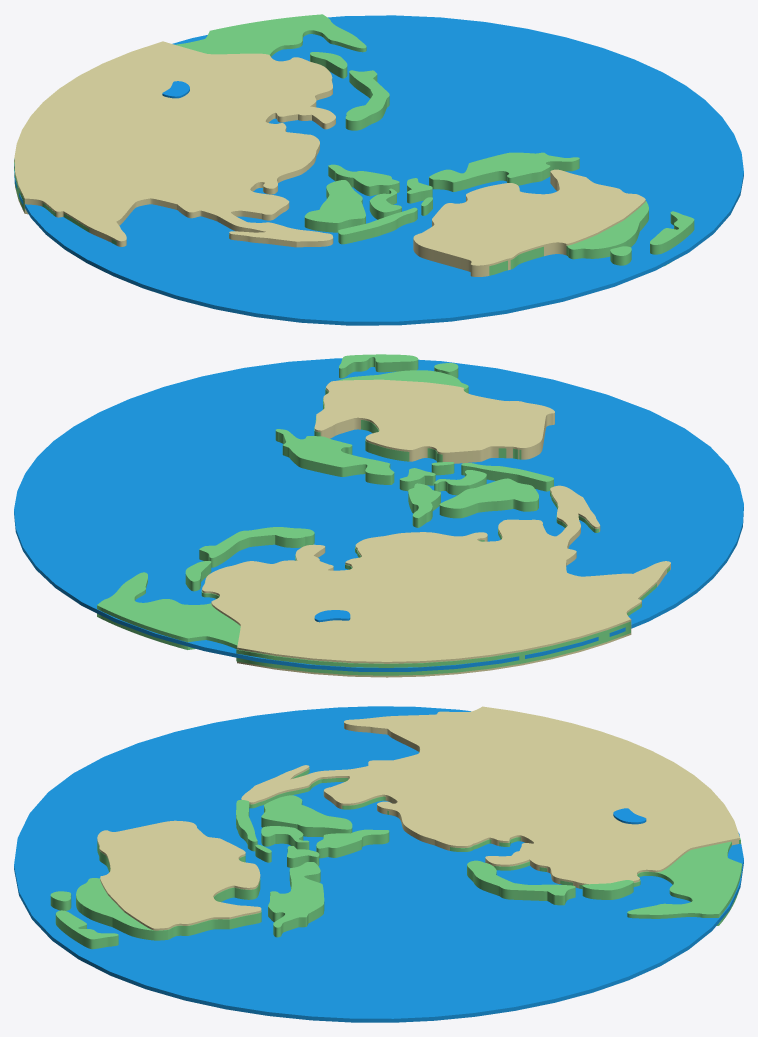
Rendered from emoji_u1f30f.glb.
The picture shows the model from 3 angles, top to bottom: view 1: azimuth 30°, elevation 25°; view 2: azimuth 150°, elevation 25°; view 3: azimuth 270°, elevation 25°; orthographic projection.
Parts seen in each view (by area): view 1: emoji_u1f30f; view 2: emoji_u1f30f; view 3: emoji_u1f30f.
Boxes of the visible parts, bbox=[...] form: emoji_u1f30f: bbox=[14, 14, 743, 325]; emoji_u1f30f: bbox=[14, 354, 743, 677]; emoji_u1f30f: bbox=[14, 706, 743, 1022].
Bounding box in the file's own units: 0.0341 × 0.0014 × 0.0337.
